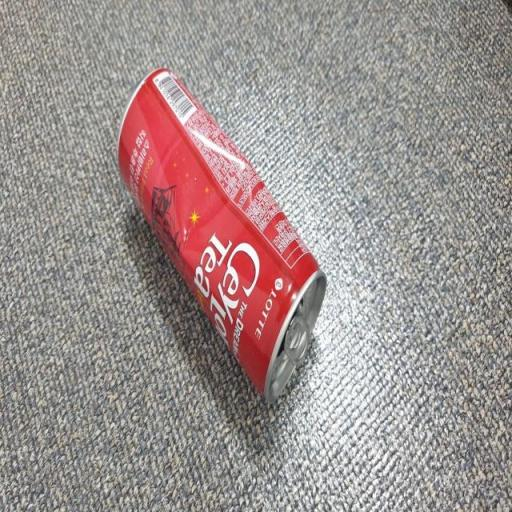metal: (103, 48, 338, 422)
